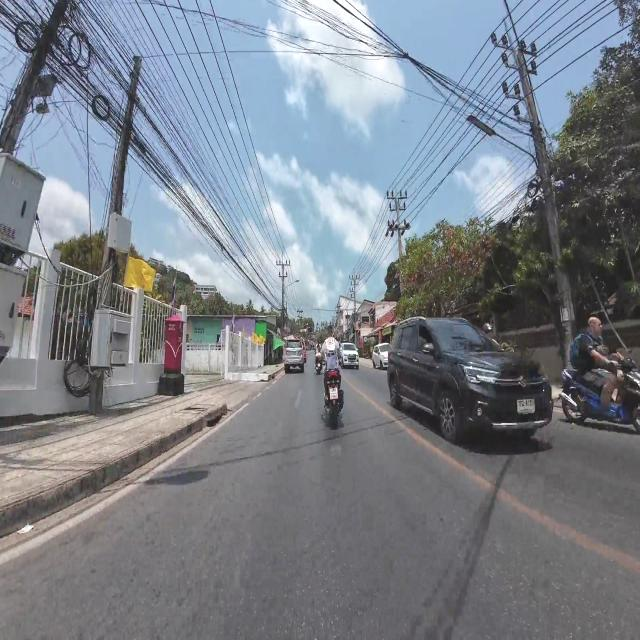car: (387, 318, 552, 442), (284, 339, 304, 372), (340, 343, 358, 369), (372, 343, 390, 369)
motorcycle: (560, 359, 639, 433), (324, 370, 344, 429), (315, 353, 322, 374)
